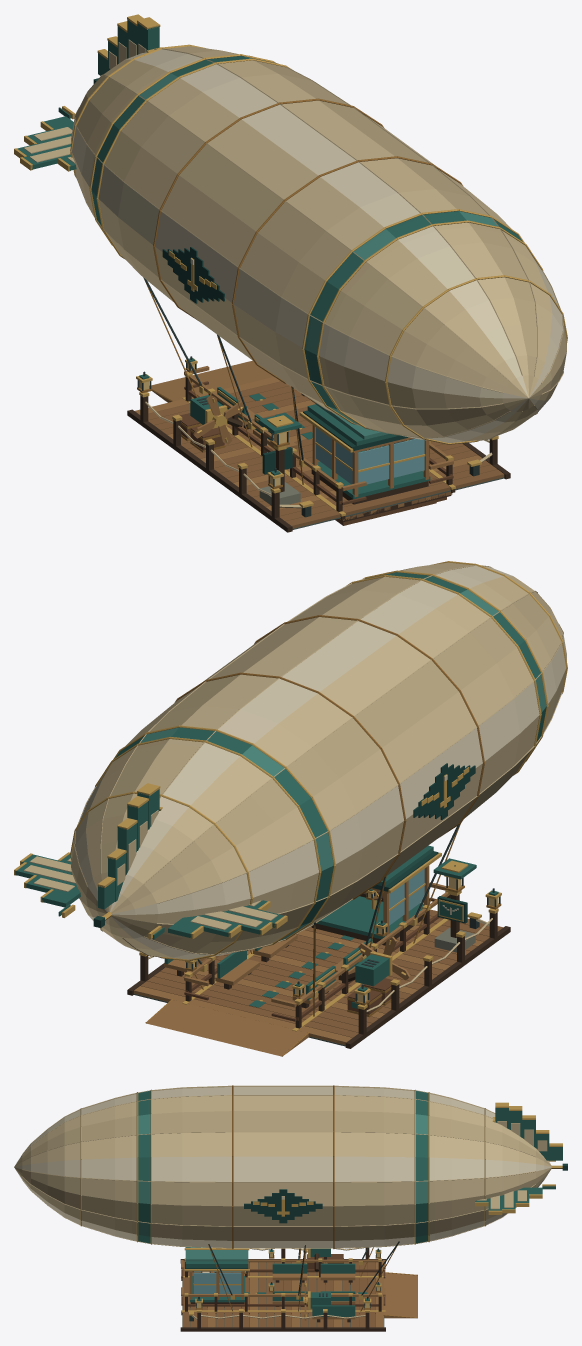
Rendered from zeppelin-kit.glb.
3 views of the same model, one above another, from view 1: azimuth 30°, elevation 25°; view 2: azimuth 150°, elevation 25°; view 3: azimuth 270°, elevation 25° (orthographic). The views are drawn at different scales.
Visible parts, largest first — view 1: zeppelin-hull-envelope-rigging, zeppelin-dock-platform-post-details, zeppelin-propeller-port-blades; view 2: zeppelin-hull-envelope-rigging, zeppelin-dock-platform-post-details; view 3: zeppelin-hull-envelope-rigging, zeppelin-dock-platform-post-details.
Part boxes in pixels (x1=…): zeppelin-hull-envelope-rigging: x1=14, y1=14, x2=567, y2=525; zeppelin-dock-platform-post-details: x1=127, y1=360, x2=510, y2=532; zeppelin-propeller-port-blades: x1=193, y1=395, x2=243, y2=444; zeppelin-hull-envelope-rigging: x1=14, y1=561, x2=567, y2=1031; zeppelin-dock-platform-post-details: x1=127, y1=858, x2=510, y2=1056; zeppelin-hull-envelope-rigging: x1=14, y1=1085, x2=567, y2=1315; zeppelin-dock-platform-post-details: x1=180, y1=1247, x2=417, y2=1331.
Size of the model in its own units: 11.31 by 14.39 by 32.91.
